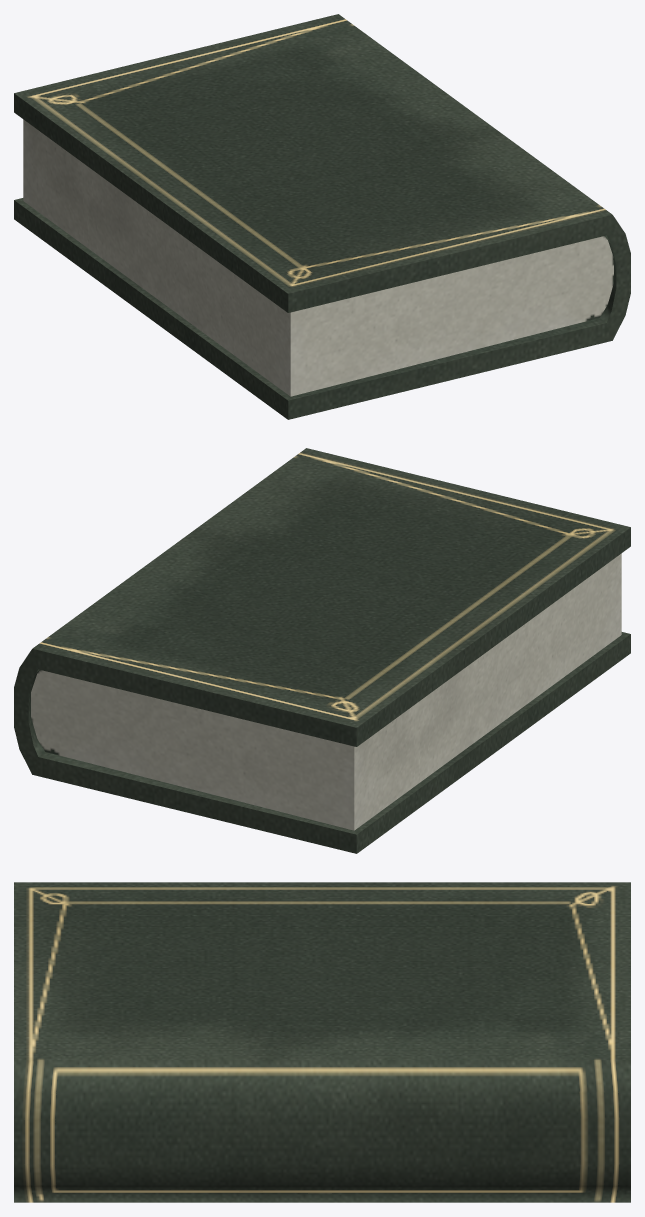
Rendered from Book01.fbx.
3 renders of one model, top to bottom at view 1: azimuth 30°, elevation 25°; view 2: azimuth 150°, elevation 25°; view 3: azimuth 270°, elevation 25°, orthographic. The views are drawn at different scales.
Visible parts, largest first — view 1: prop_book_03_inst_002; view 2: prop_book_03_inst_002; view 3: prop_book_03_inst_002.
Boxes of the visible parts, <box> form: prop_book_03_inst_002: <box>14,14,630,419</box>; prop_book_03_inst_002: <box>14,448,630,853</box>; prop_book_03_inst_002: <box>14,882,630,1202</box>.
Size of the model in its own units: 30.2 by 10.61 by 41.83.
Materials: 1 (1 with a texture image).
